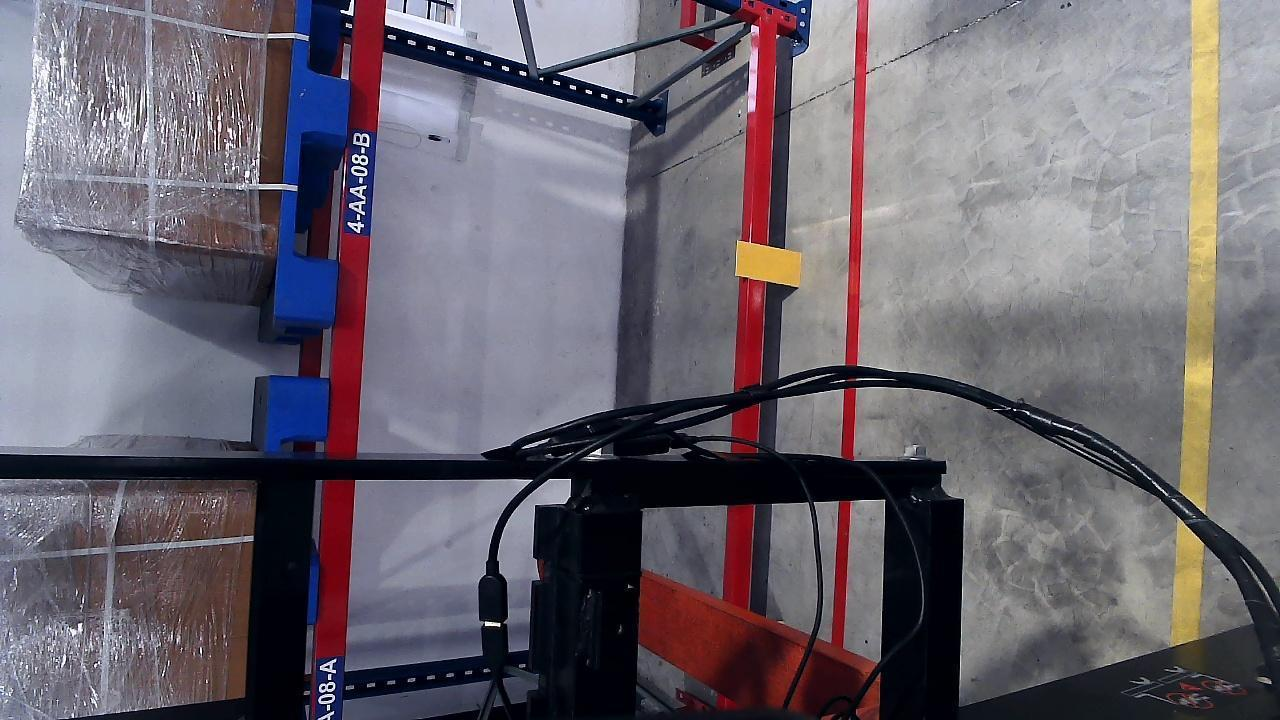red_line: (834, 5, 868, 644)
yellow_line: (1173, 7, 1221, 635)
